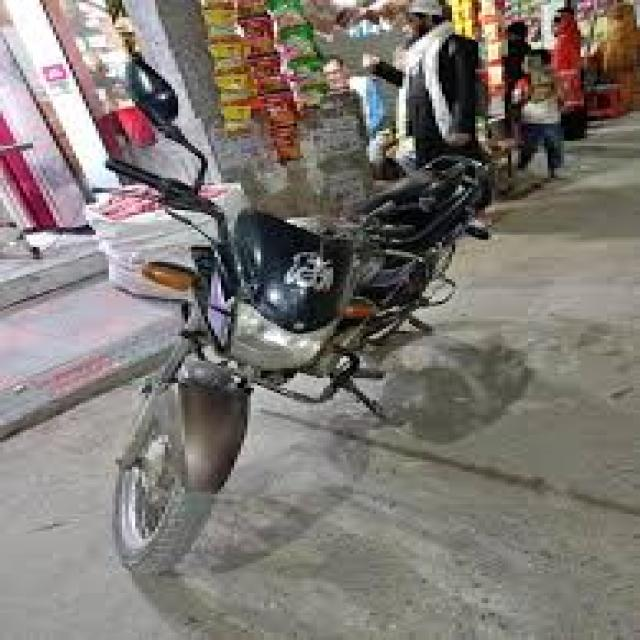bike: (71, 132, 546, 565)
